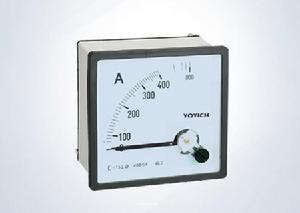pointer: (96, 54, 223, 183)
